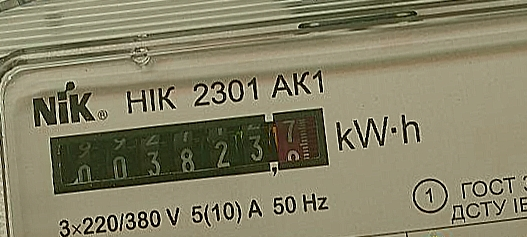0: (107, 151, 130, 180), (74, 160, 95, 185)
2: (211, 136, 234, 171)
3: (246, 131, 267, 163), (143, 146, 164, 177)
7: (281, 117, 301, 147)
8: (177, 144, 197, 174)
9: (73, 138, 94, 160)
screen: (40, 98, 335, 204)
